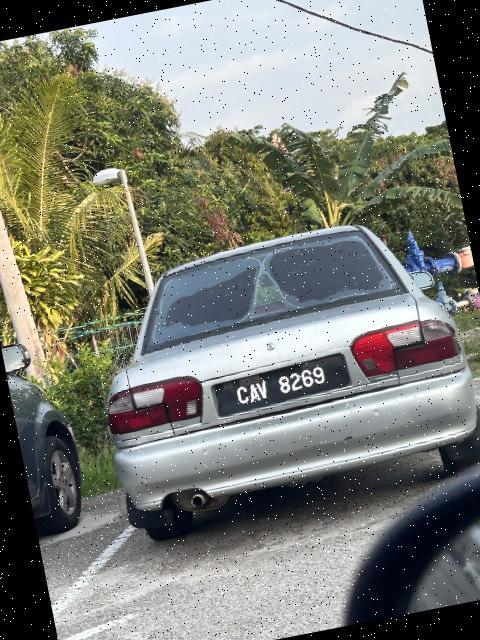License_Plate: (212, 354, 349, 418)
car: (77, 198, 480, 554)
cav8269: (212, 354, 349, 418)
